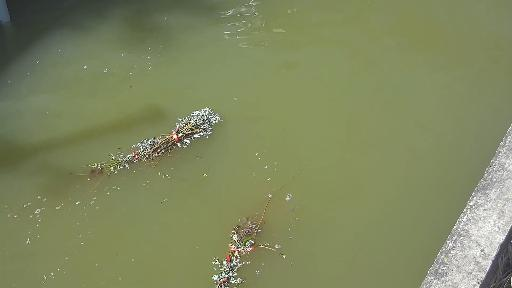twig: (194, 164, 310, 287), (77, 102, 232, 179)
